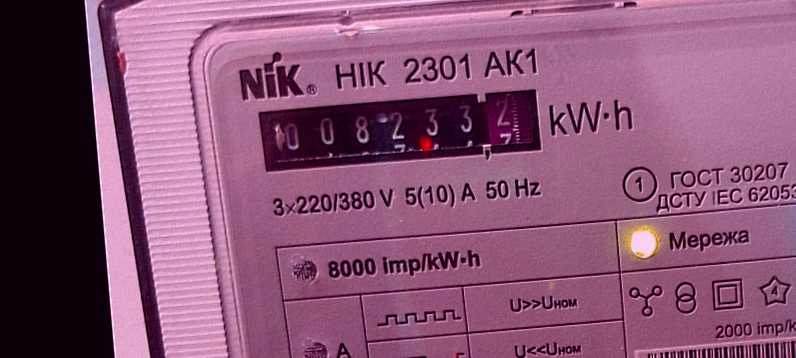0: (281, 120, 304, 153), (317, 115, 338, 148)
2: (386, 109, 408, 143), (493, 97, 513, 129)
3: (422, 106, 442, 138), (457, 102, 476, 135)
8: (352, 113, 372, 146)
screen: (247, 77, 554, 183)
